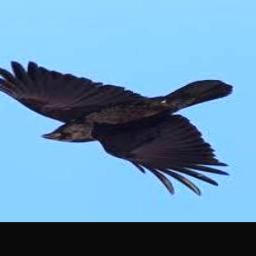Crow: (0, 62, 234, 196)
